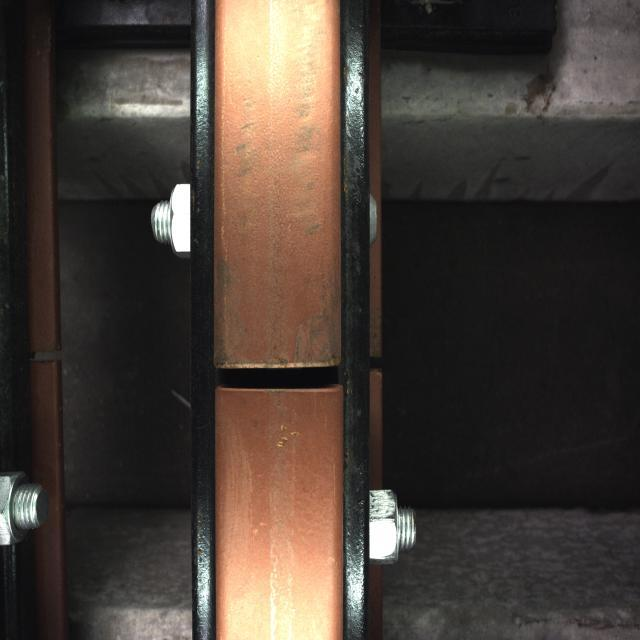spalling: (192, 315, 370, 436)
